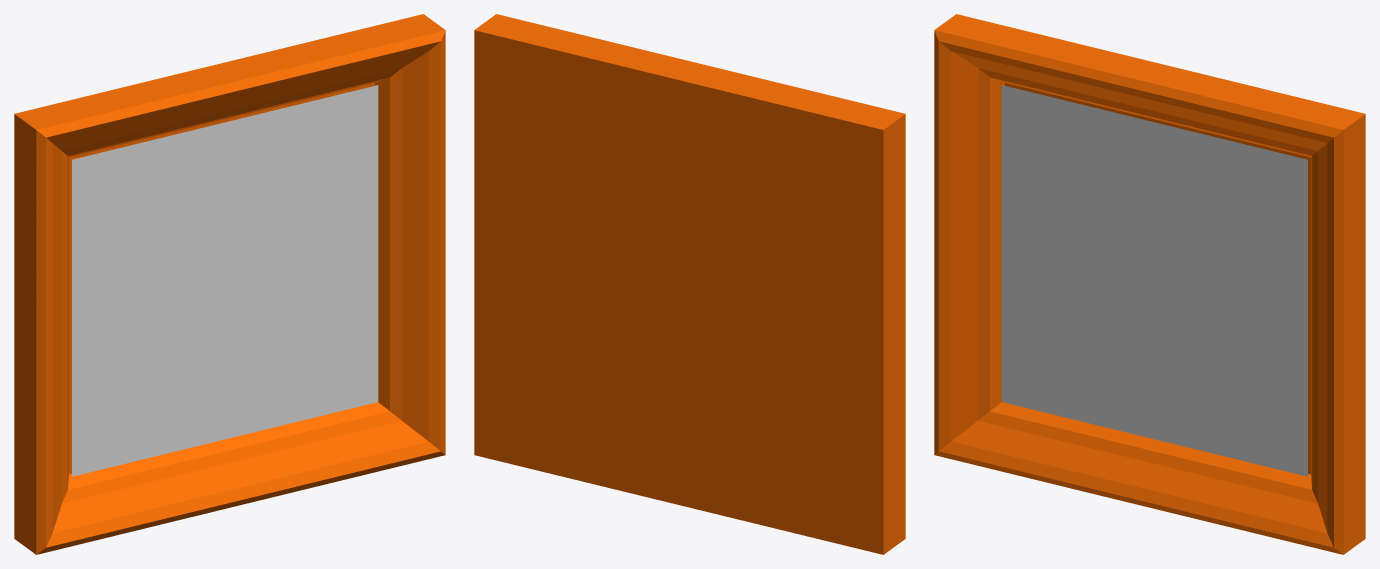
File: Frame(Square).fbx
3 renders of one model, left to right at view 1: azimuth 30°, elevation 25°; view 2: azimuth 150°, elevation 25°; view 3: azimuth 330°, elevation 25°, orthographic.
Visible parts, largest first — view 1: Frame(Square).001, Frame(Square); view 2: Frame(Square); view 3: Frame(Square).001, Frame(Square).
Boxes of the visible parts, x1,y1,x2,y2 form: Frame(Square).001: (72,85,378,476); Frame(Square): (14,14,445,554); Frame(Square): (474,14,905,554); Frame(Square).001: (1001,85,1307,476); Frame(Square): (934,14,1365,554).
Size of the model in its own units: 300 by 298 by 31.38.
